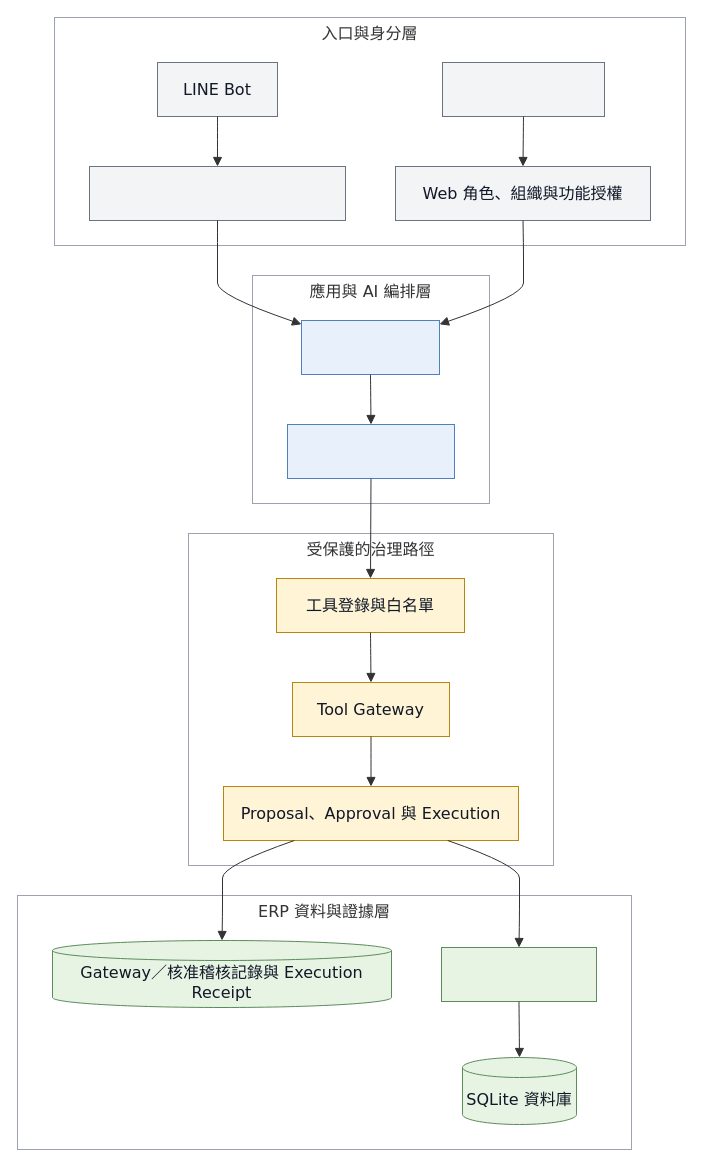
Image size: 703x1167. Some labels were removed from this diagram. The centre of each missing label's shape, as x and y in pixels:
"8 個專責 Agent" goes at [370,451].
"ERP 功能模組" goes at [518,974].
"LINE 來源白名單與角色政策" goes at [217,193].
"Streamlit Web" goes at [523,89].
"總管 Agent" goes at [370,347].
